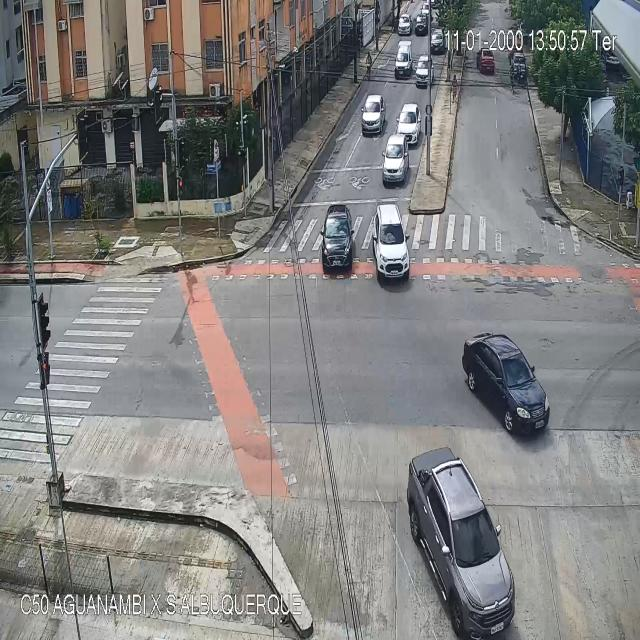Car: (407, 449, 519, 634), (462, 331, 550, 442), (374, 204, 412, 277), (320, 204, 354, 277), (382, 134, 408, 182), (398, 100, 421, 142), (362, 96, 383, 130), (396, 38, 412, 76), (415, 54, 431, 86), (476, 47, 494, 74), (511, 53, 527, 79), (429, 28, 445, 52), (415, 15, 427, 37), (420, 1, 433, 21), (397, 14, 409, 34)
Motorcycle: (516, 63, 520, 83)
